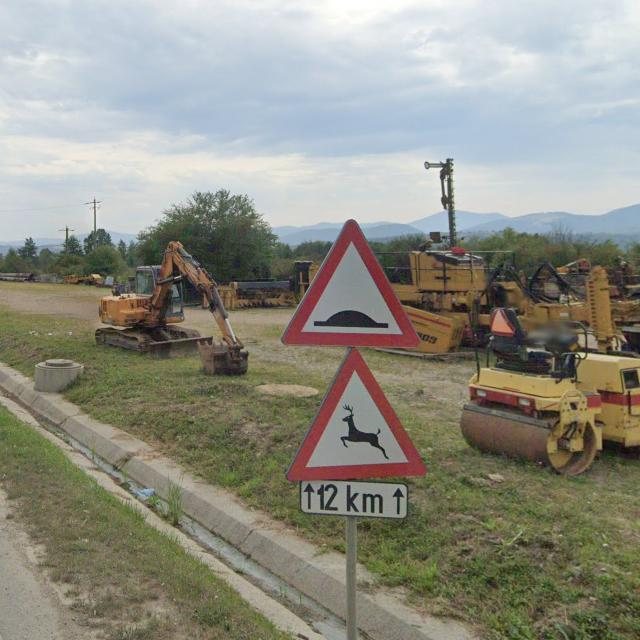warn_speed_bumper: (282, 217, 421, 350)
warn_wild_animals: (285, 348, 427, 480)
